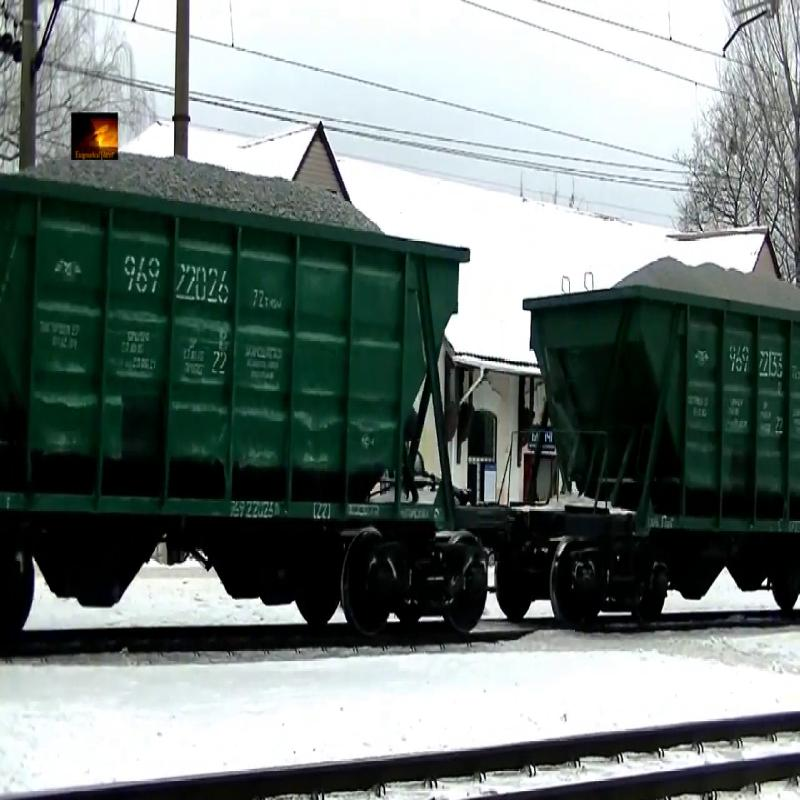train: (1, 142, 503, 648), (518, 264, 800, 647)
